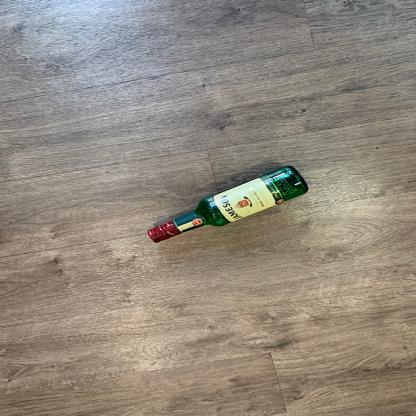trash: (142, 166, 312, 247)
